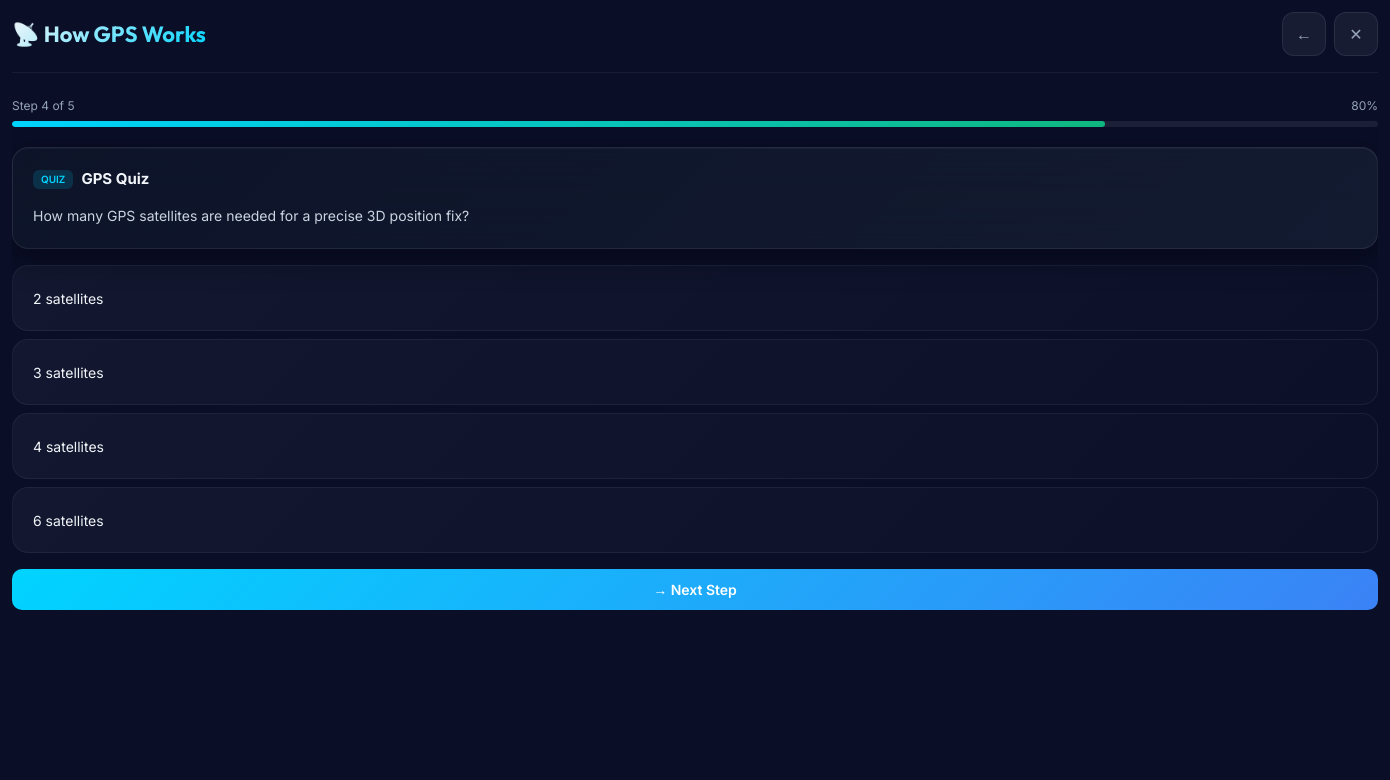
Test case: MissionPanel › handles correct quiz answer
Click the button "4 satellites". click: [69, 446]
box: [12, 413, 1378, 479]
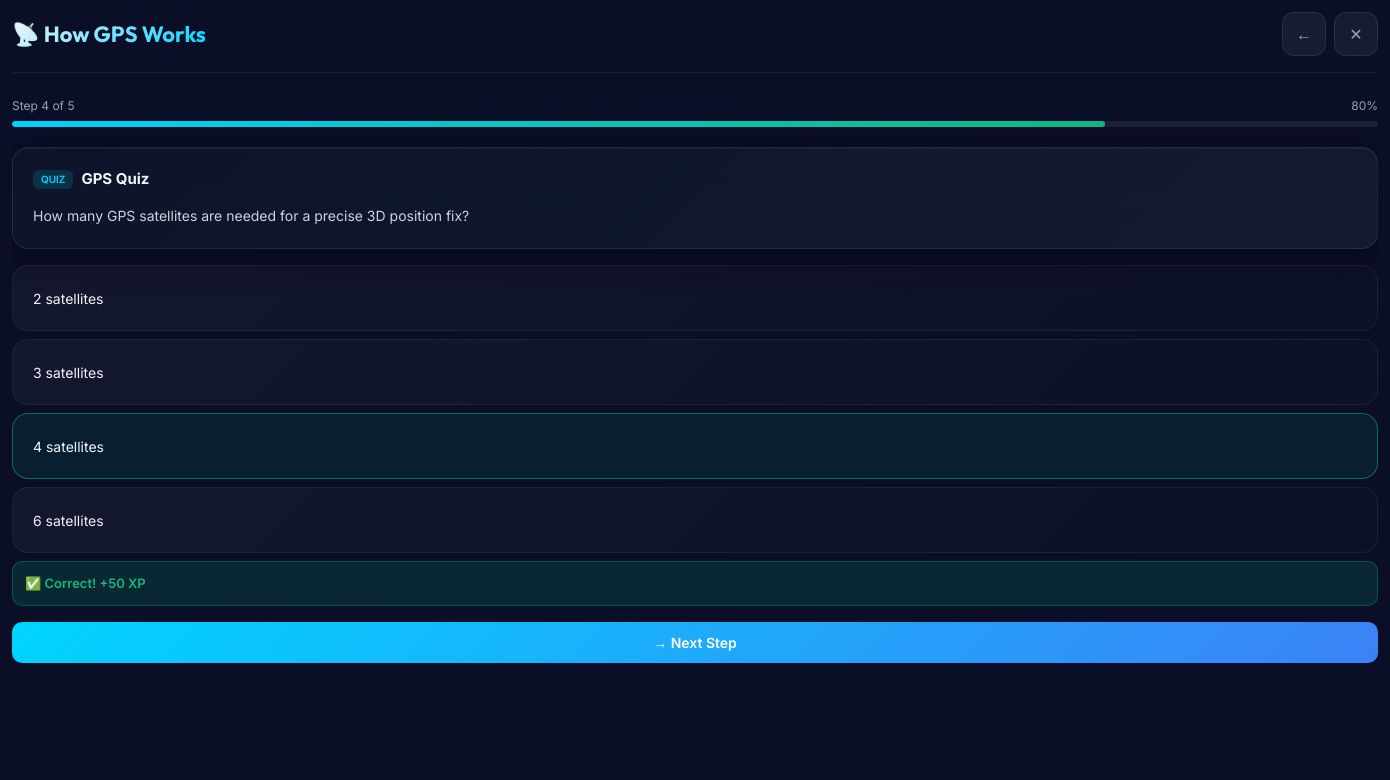
Now the text "✅ Correct! +50 XP" is shown, box [12, 561, 1378, 606]
